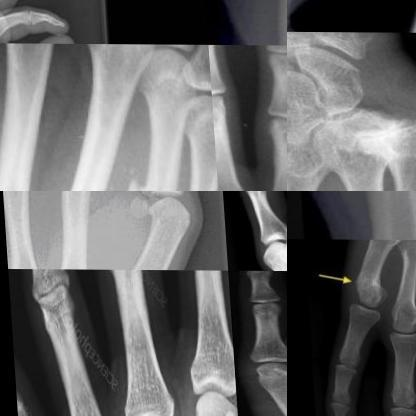fracture: (351, 105, 415, 170), (111, 160, 177, 190), (349, 267, 391, 313)
